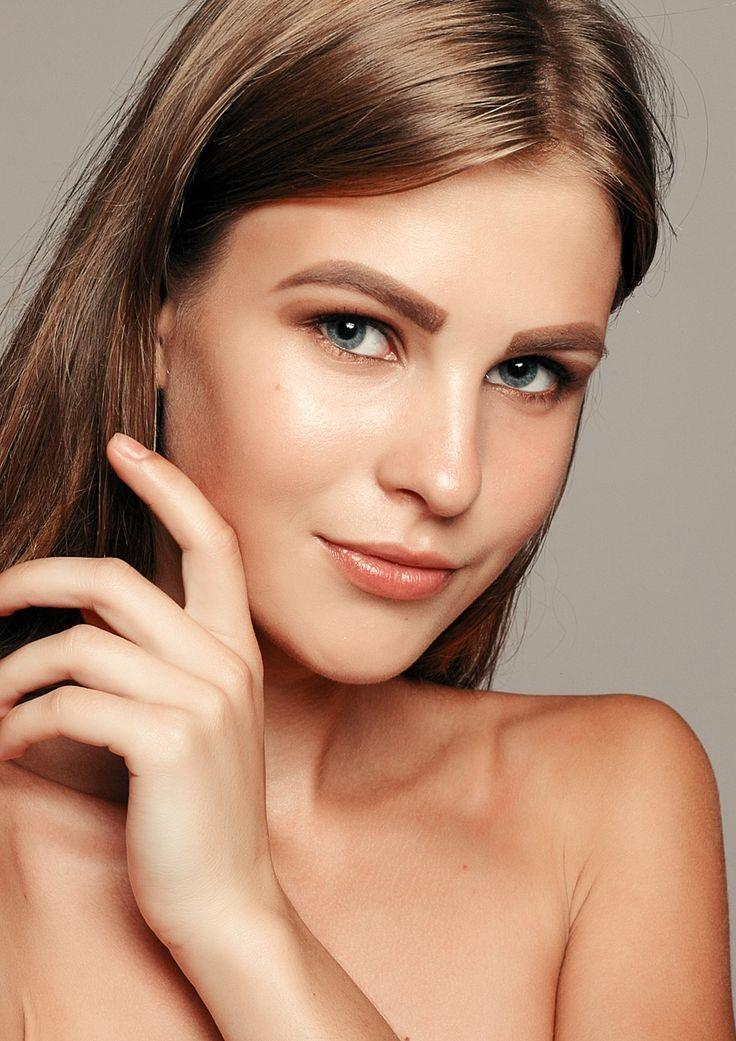Oily-Skin: (400, 202, 552, 392), (310, 558, 415, 745), (250, 395, 348, 558), (465, 455, 582, 525)
